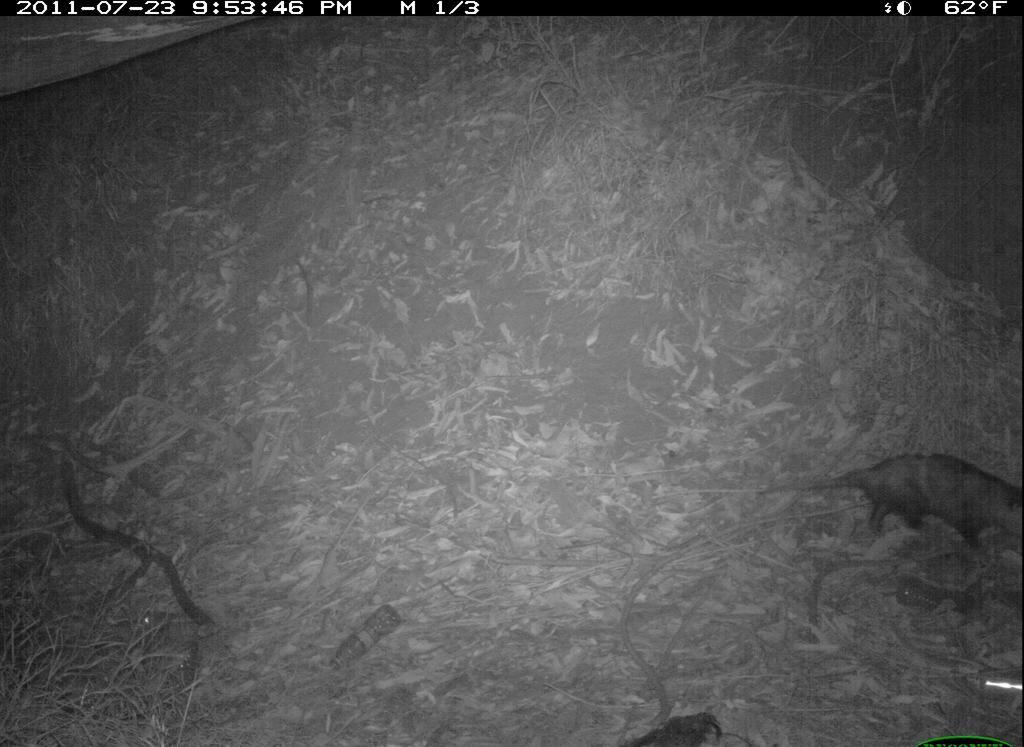opossum: (745, 440, 1024, 555)
